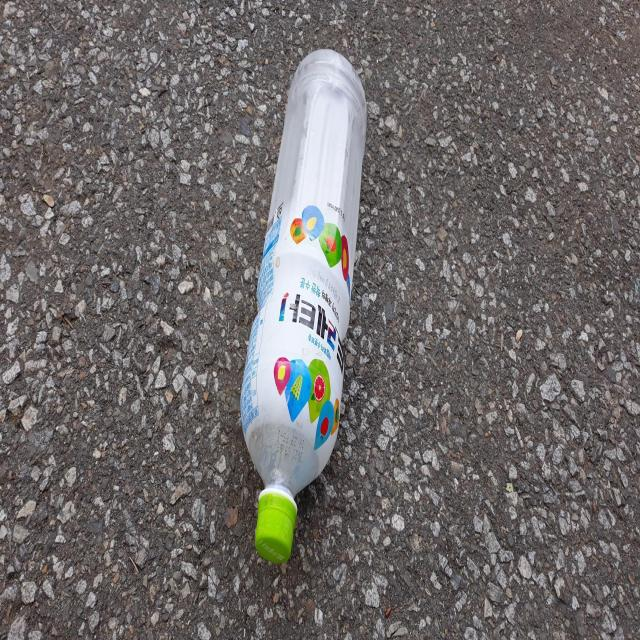plastic: (241, 48, 367, 564)
